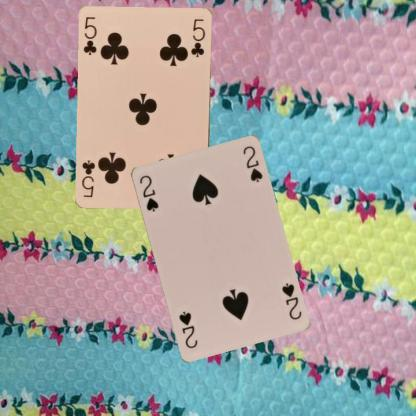2s: (278, 280, 303, 320), (136, 172, 160, 213)
5c: (82, 14, 99, 57)
